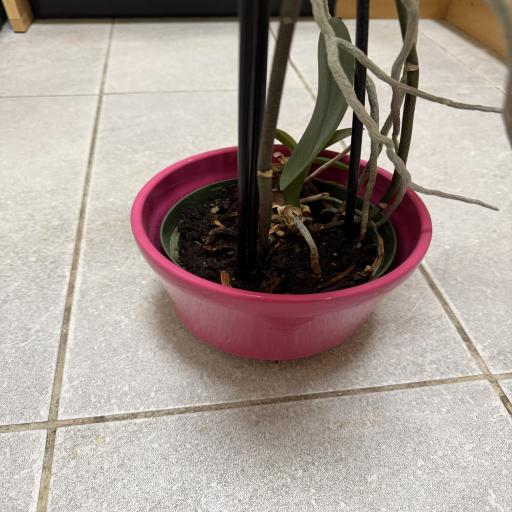Plant Pot: (132, 142, 432, 359)
